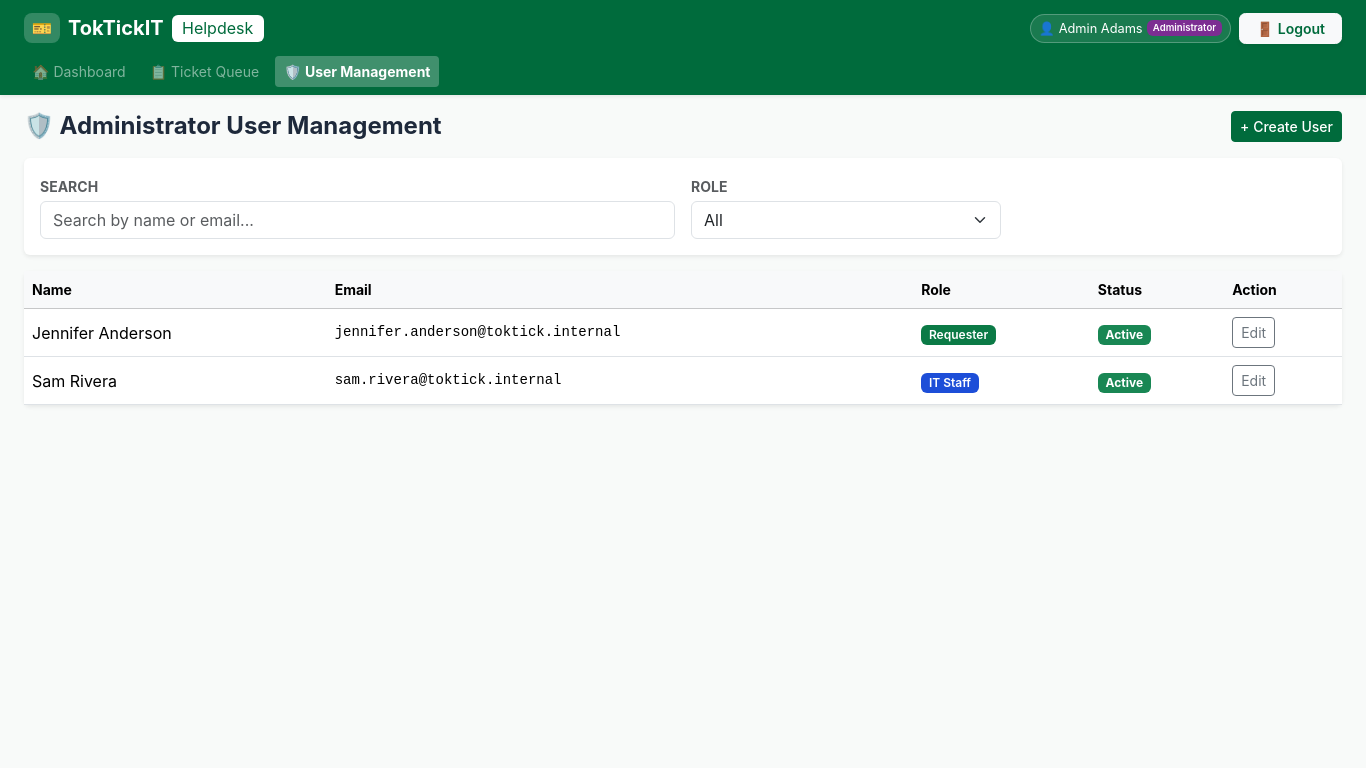
Test case: Administrator User Management (UI-08, UI-09) › UI-08h: Set New Initial Password requires a confirmation step before submitting
Expected: the text "Jennifer Anderson" is shown, left=24, top=309, right=327, bottom=357
Click the button "Edit" in the row of "Jennifer Anderson".
click(1254, 333)  # box left=1232, top=317, right=1275, bottom=348
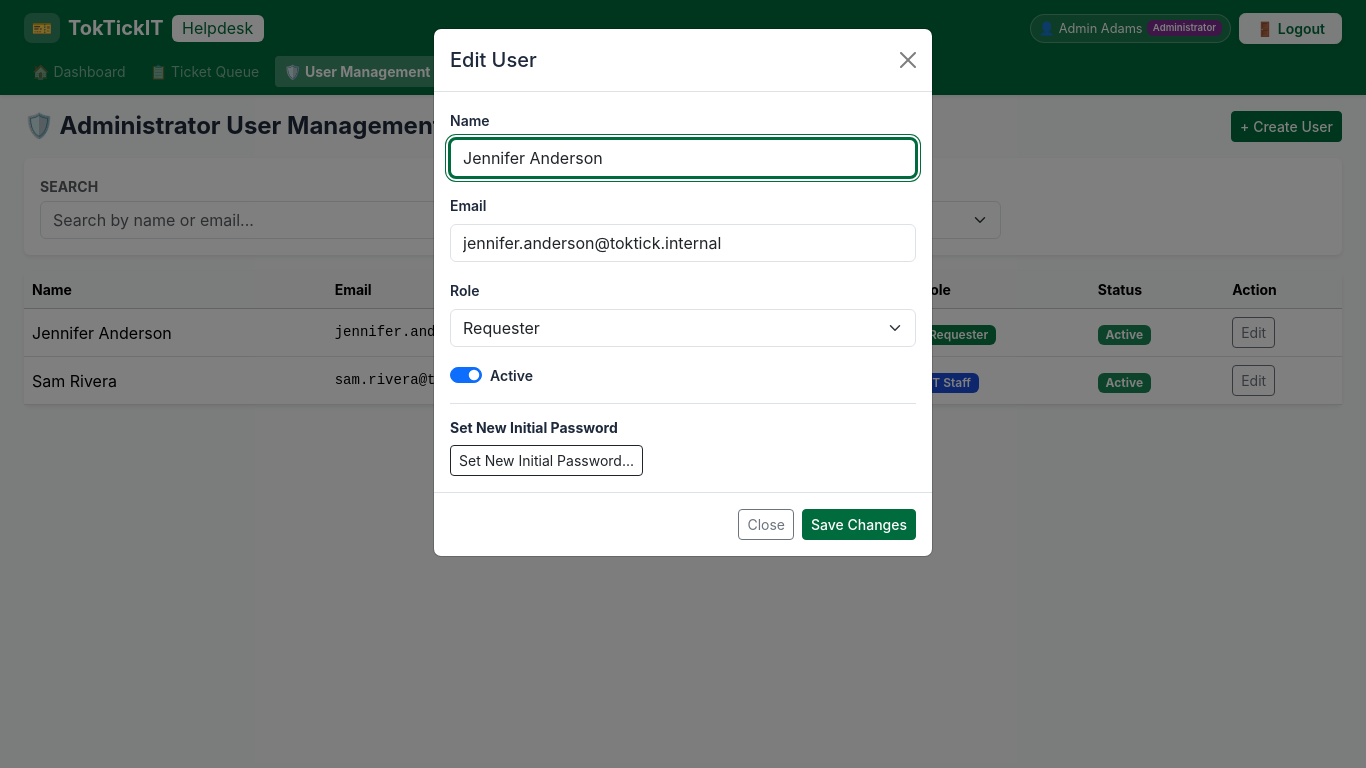
Now the field labelled "Name" is shown, box left=450, top=139, right=916, bottom=177
Click the button "Set New Initial Password...".
click(546, 460)  # box left=450, top=445, right=643, bottom=476
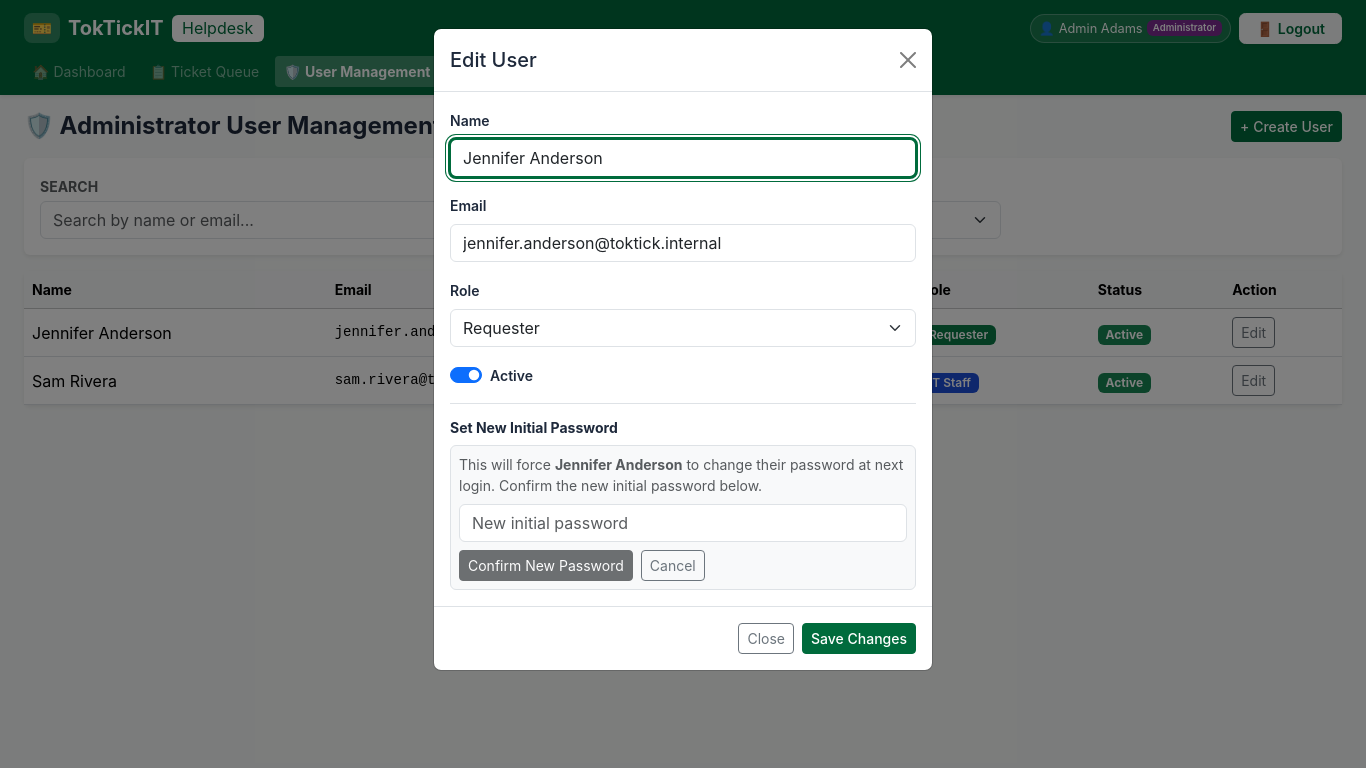
Now the password field labelled "New initial password" is shown
Type "BrandNewPass1" into the password field labelled "New initial password".
click(683, 523); type("BrandNewPass1")  # box left=459, top=504, right=907, bottom=542
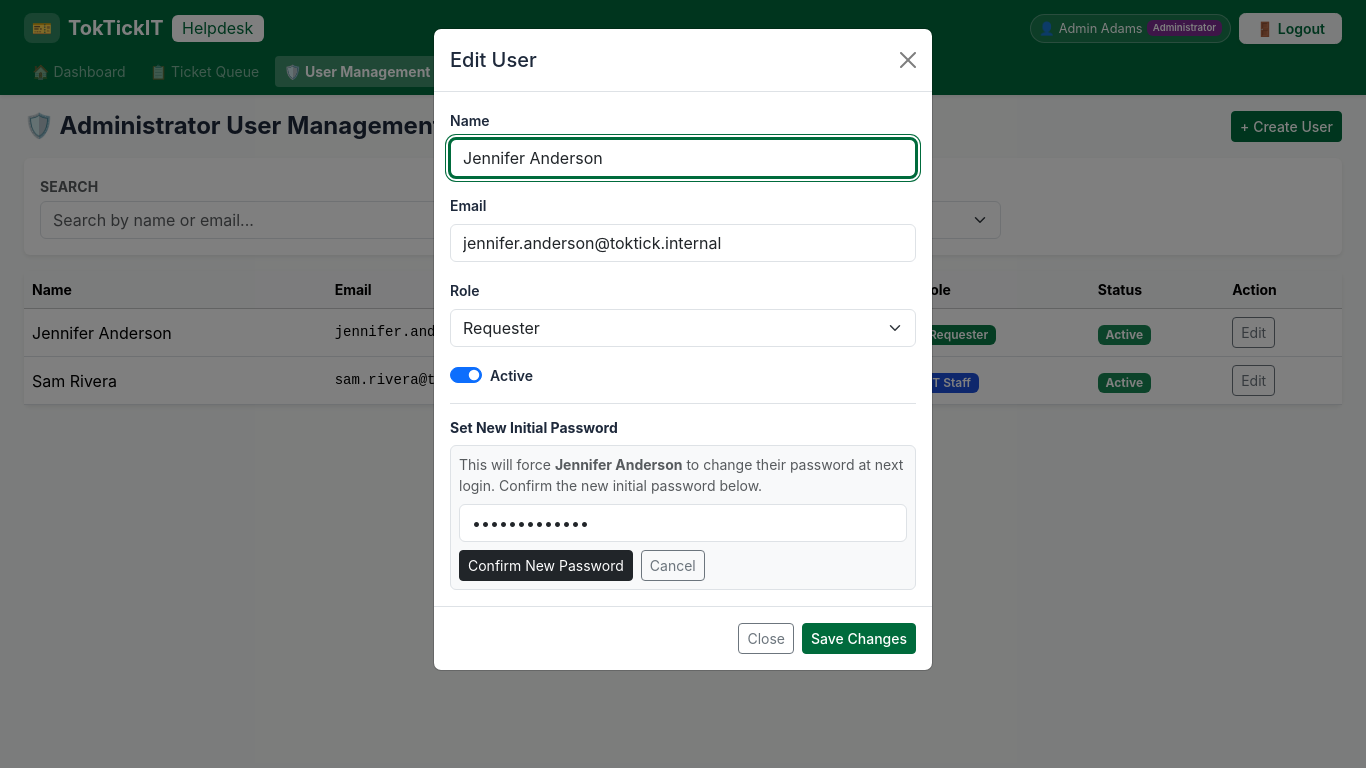
Click the button "Confirm New Password".
click(546, 565)  # box left=459, top=550, right=633, bottom=581
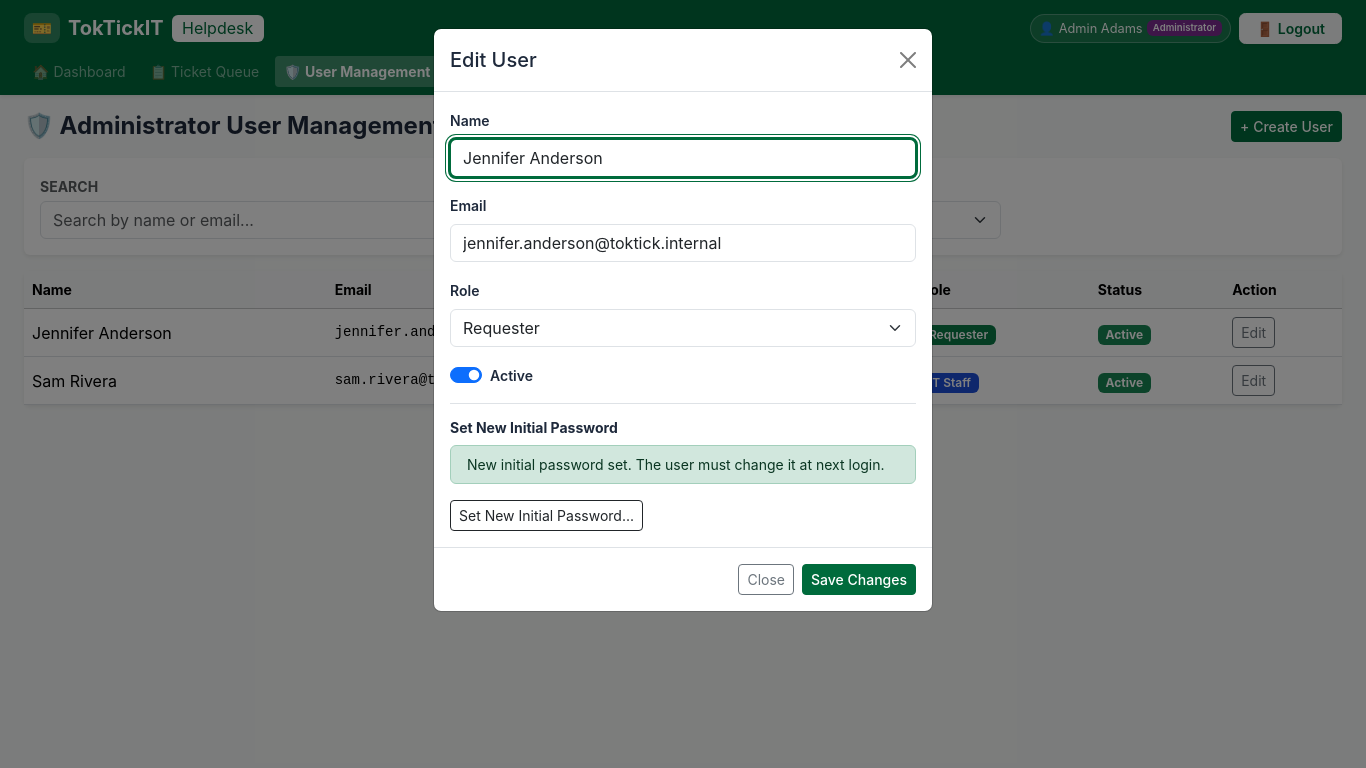
Now the text "New initial password set" is shown, box left=467, top=456, right=885, bottom=473
